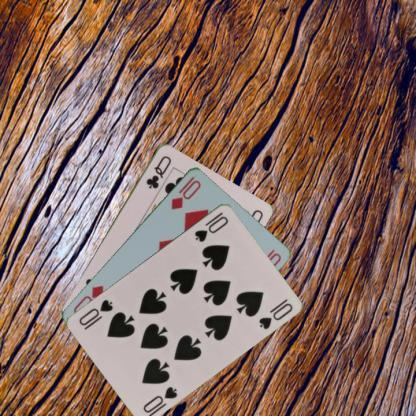10d: (168, 177, 202, 211)
10s: (192, 209, 230, 243), (140, 383, 180, 414)
Qc: (142, 153, 172, 190)
